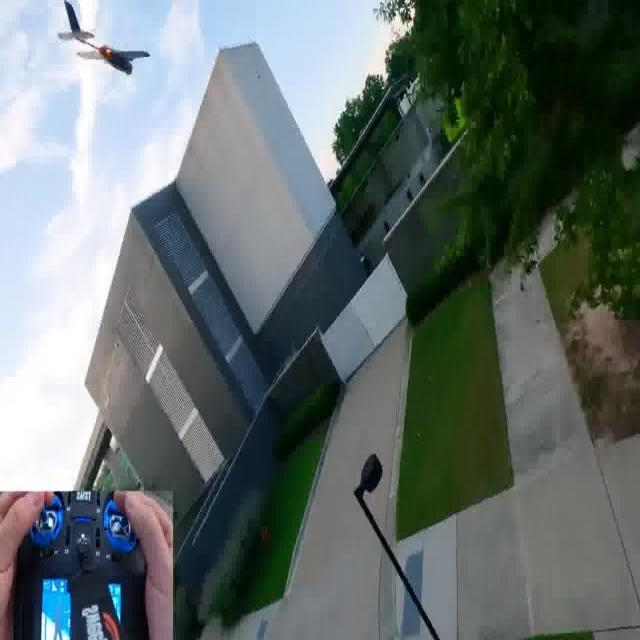iha: (20, 34, 57, 59)
